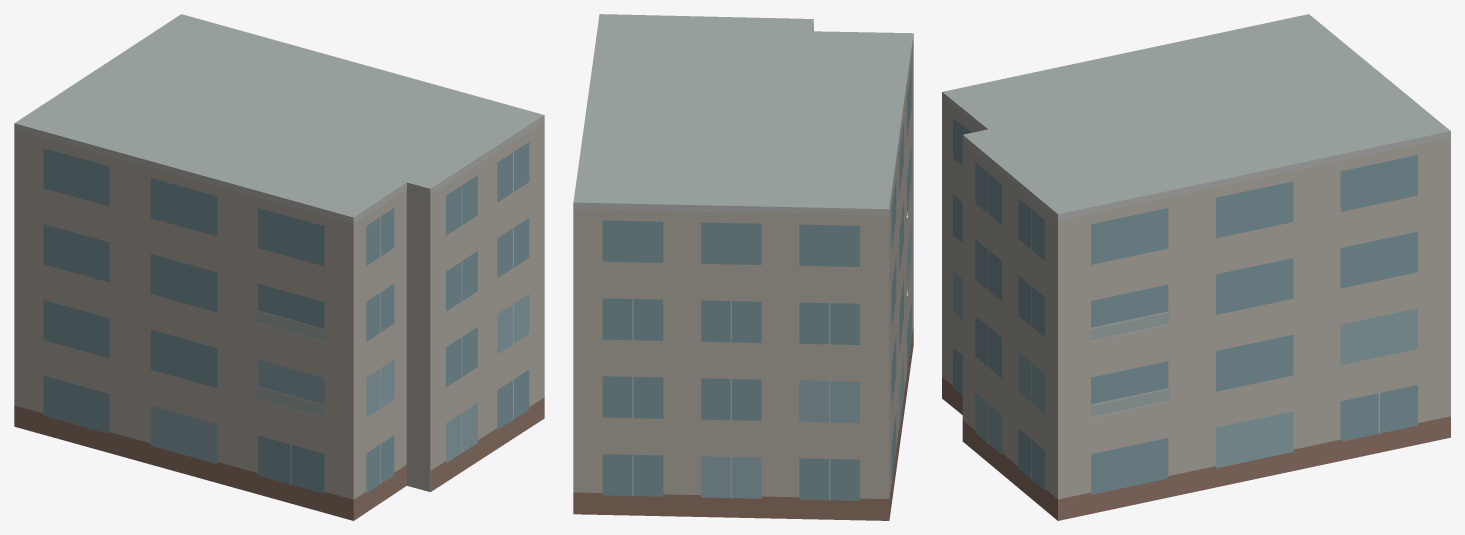
File: survey-upis-32612972.glb
The picture shows the model from 3 angles, left to right: view 1: azimuth 30°, elevation 25°; view 2: azimuth 150°, elevation 25°; view 3: azimuth 270°, elevation 25°; orthographic projection. The views are drawn at different scales.
Parts seen in each view (by area): view 1: survey-upis-32612972.tmp; view 2: survey-upis-32612972.tmp; view 3: survey-upis-32612972.tmp.
Boxes of the visible parts, x1,y1,x2,y2 form: survey-upis-32612972.tmp: (14, 14, 544, 520); survey-upis-32612972.tmp: (573, 14, 913, 520); survey-upis-32612972.tmp: (942, 14, 1450, 520).
Bounding box in the file's own units: 16.19 × 11.55 × 17.38.
